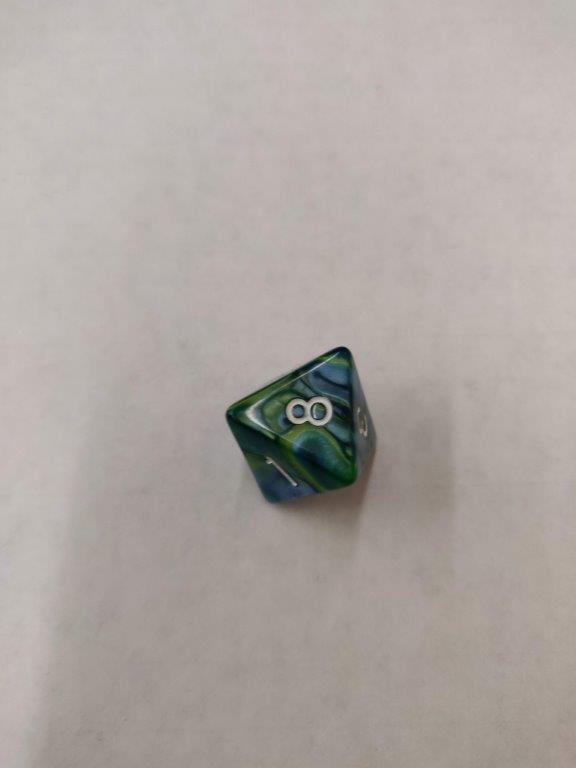d8-8: (224, 343, 378, 501)
